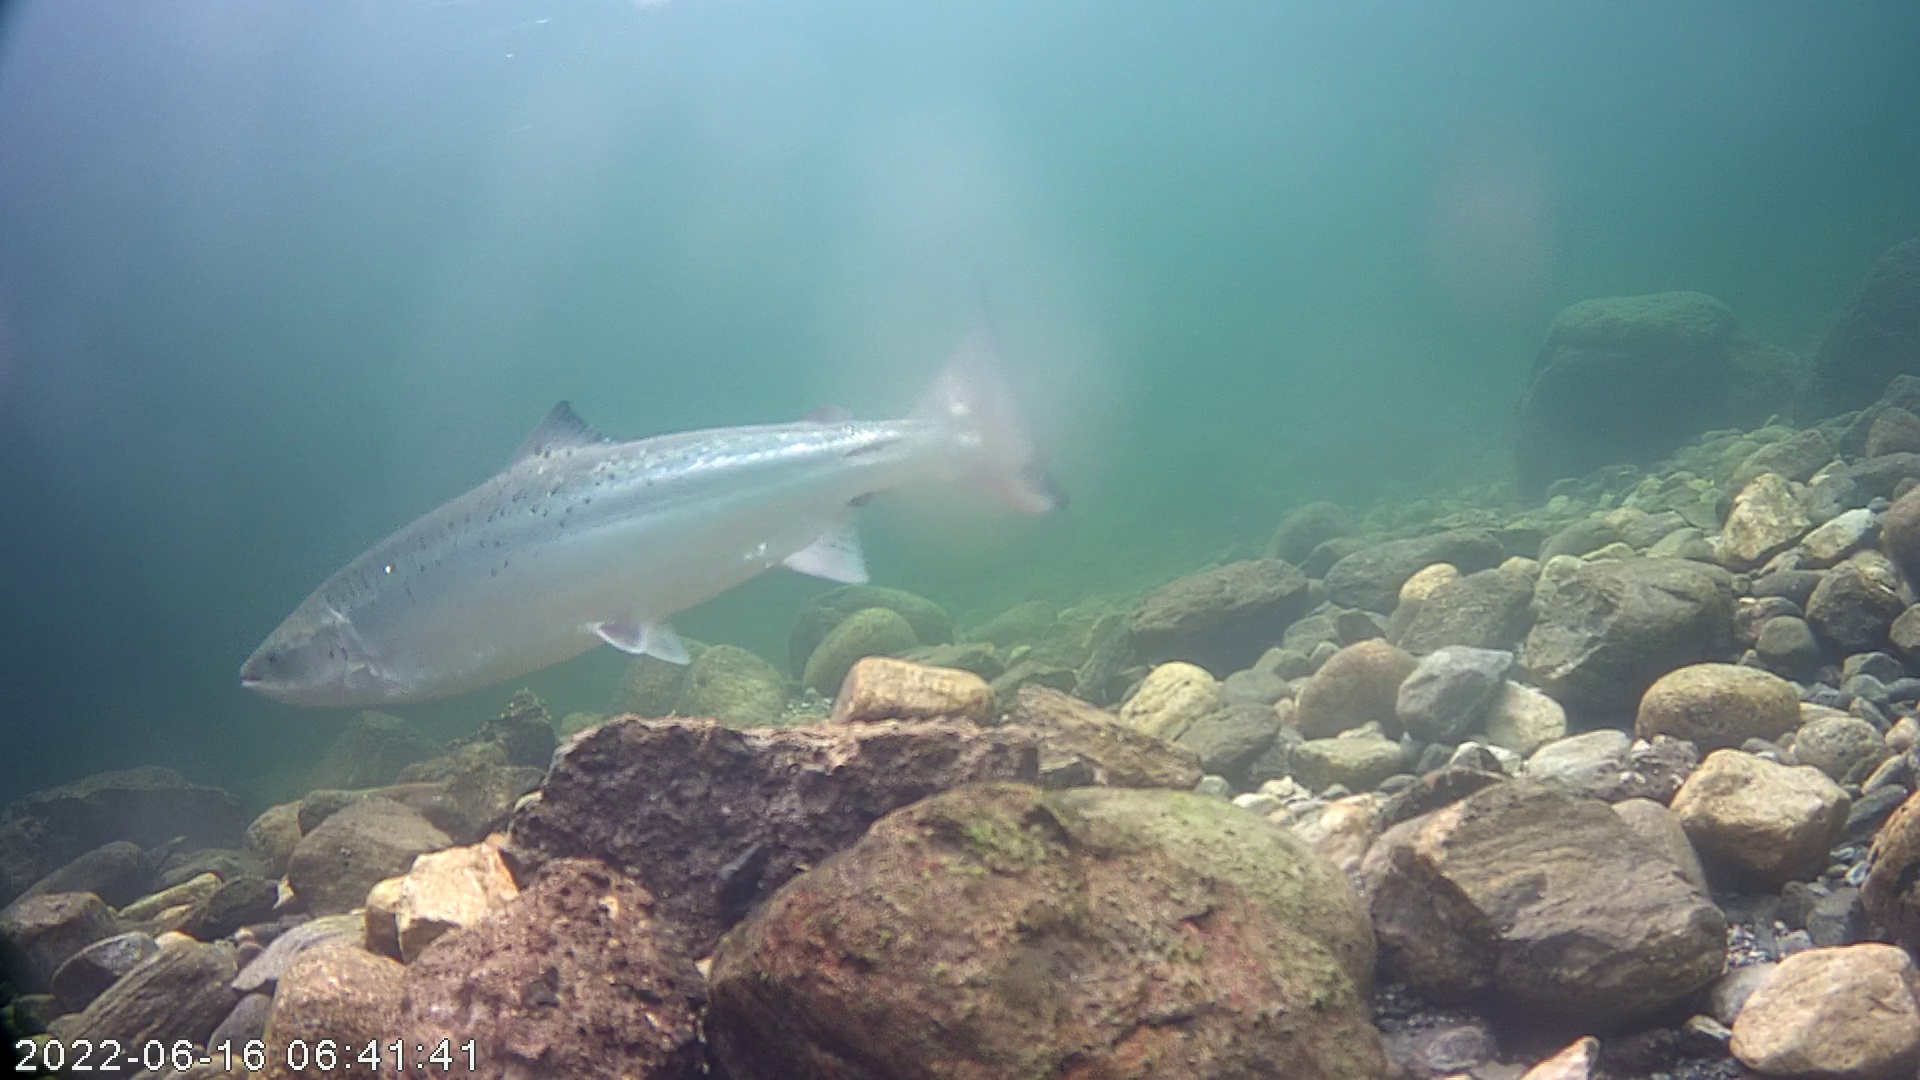salmon: (235, 291, 1073, 707)
